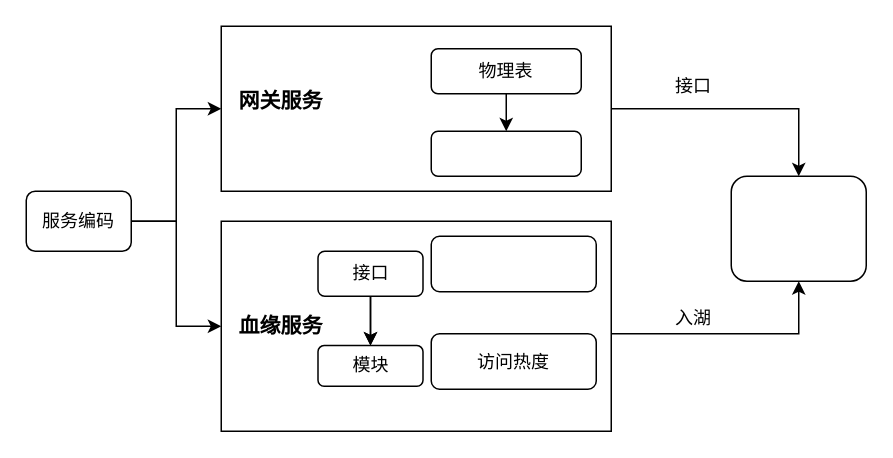
Image size: 893x458. Some labels were removed from this diagram. Here are the shapes that lost their labels. From the top down, the centre of each, then its label:
At pixel 505 153: "服务状态".
At pixel 798 228: "数据组合报表".
At pixel 513 263: "模块&服务血缘数据".
